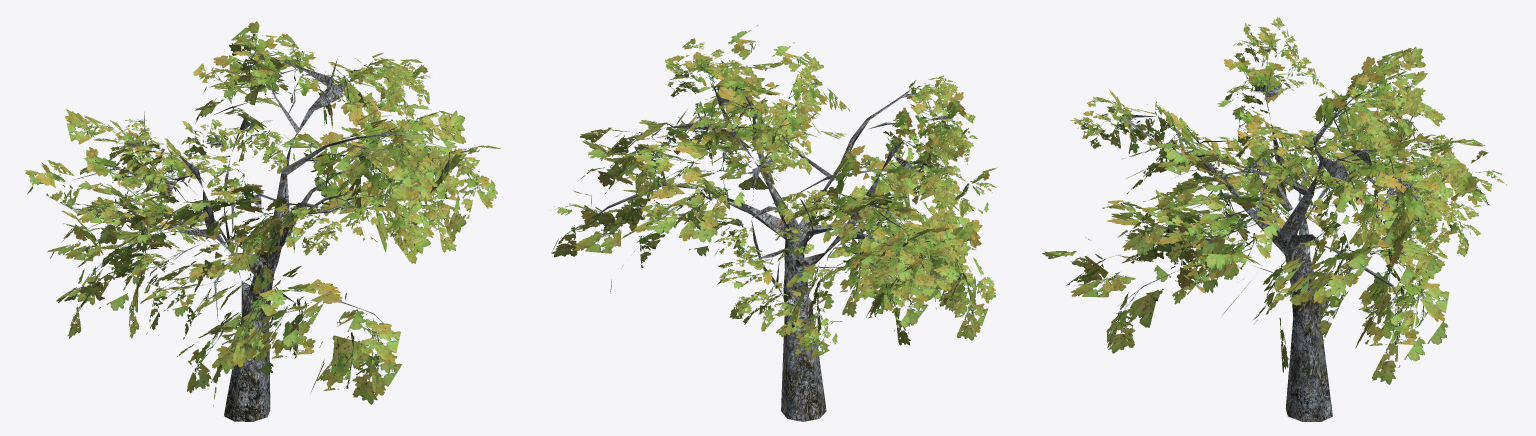
Rendered from Arbre_Erable.obj.
The picture shows the model from 3 angles, left to right: view 1: azimuth 30°, elevation 25°; view 2: azimuth 150°, elevation 25°; view 3: azimuth 270°, elevation 25°; orthographic projection. The views are drawn at different scales.
Parts seen in each view (by area): view 1: tree oak joined; view 2: tree oak joined; view 3: tree oak joined.
Boxes of the visible parts, x1=… form: tree oak joined: x1=25, y1=21, x2=500, y2=421; tree oak joined: x1=551, y1=24, x2=996, y2=421; tree oak joined: x1=1042, y1=17, x2=1507, y2=421.
Size of the model in its own units: 8.76 by 6.6 by 8.3.
Materials: 2 (2 with a texture image).
